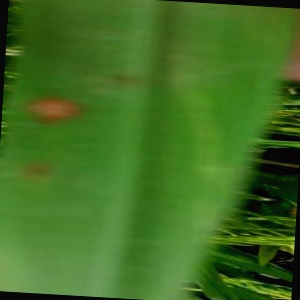Brown_Spot: (22, 68, 88, 131)
